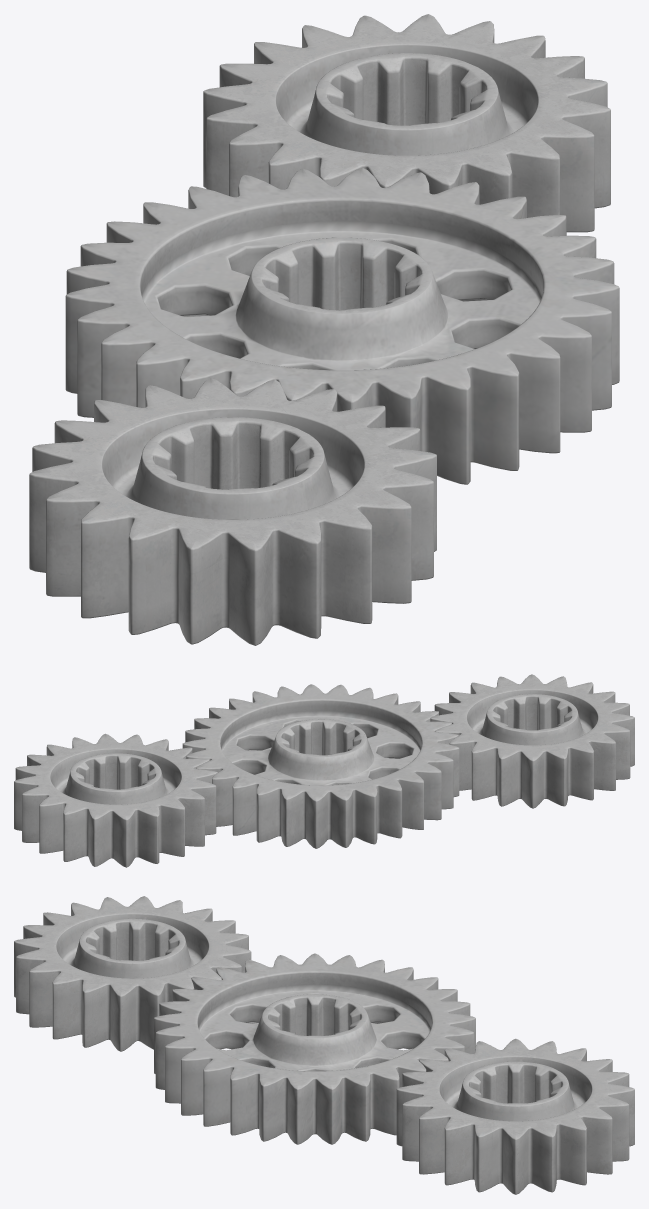
The model's file is Gears.obj.
3 renders of one model, top to bottom at view 1: azimuth 30°, elevation 25°; view 2: azimuth 150°, elevation 25°; view 3: azimuth 270°, elevation 25°, orthographic. The views are drawn at different scales.
Parts seen in each view (by area): view 1: Gear_Main, Gear_Right, Gear_Left; view 2: Gear_Main, Gear_Left, Gear_Right; view 3: Gear_Main, Gear_Left, Gear_Right.
Boxes of the visible parts, x1,y1,x2,y2 form: Gear_Main: (65,168,619,484); Gear_Right: (29,378,436,645); Gear_Left: (203,14,610,232); Gear_Main: (182,684,459,848); Gear_Left: (14,733,217,867); Gear_Right: (430,674,634,808); Gear_Main: (154,953,475,1144); Gear_Left: (396,1038,634,1194); Gear_Right: (14,896,251,1051).
Size of the model in its own units: 16.16 by 2.04 by 17.43.
3 materials, 3 textured.
